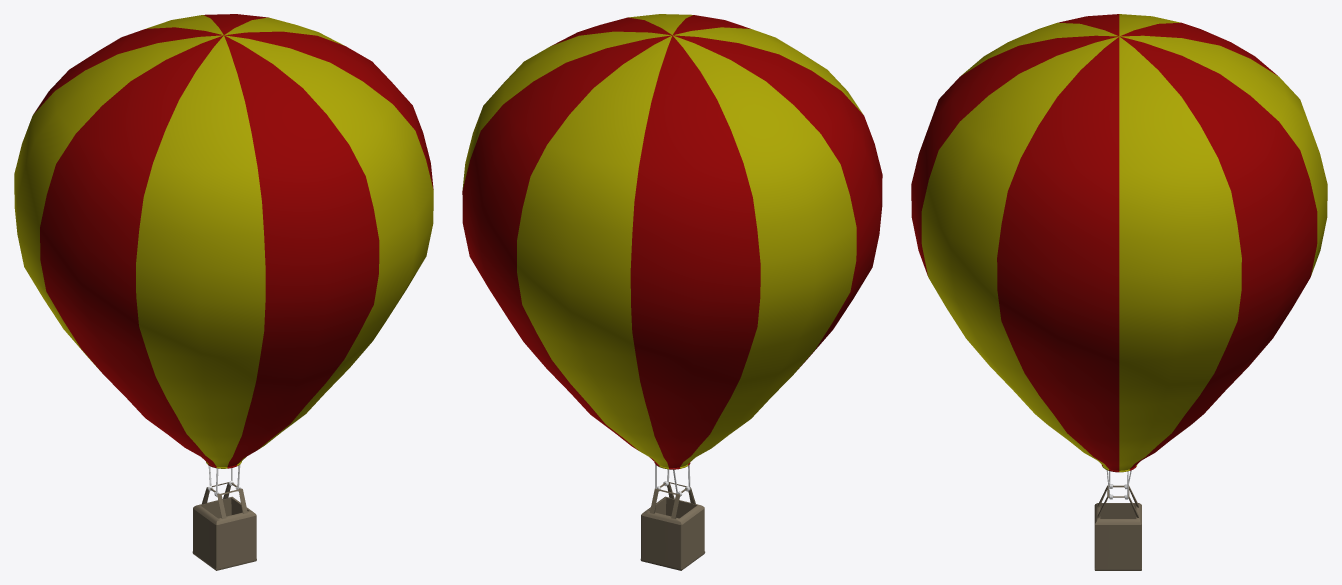
File: Globo.fbx
3 views of the same model, side by side, from view 1: azimuth 30°, elevation 25°; view 2: azimuth 150°, elevation 25°; view 3: azimuth 270°, elevation 25° (orthographic).
Parts seen in each view (by area): view 1: polySurface13; view 2: polySurface13; view 3: polySurface13.
Part boxes in pixels (x1,y1,x2,y2): polySurface13: [14, 14, 433, 570]; polySurface13: [462, 14, 882, 570]; polySurface13: [911, 14, 1327, 570].
Size of the model in its own units: 13.21 by 17.93 by 12.88.
